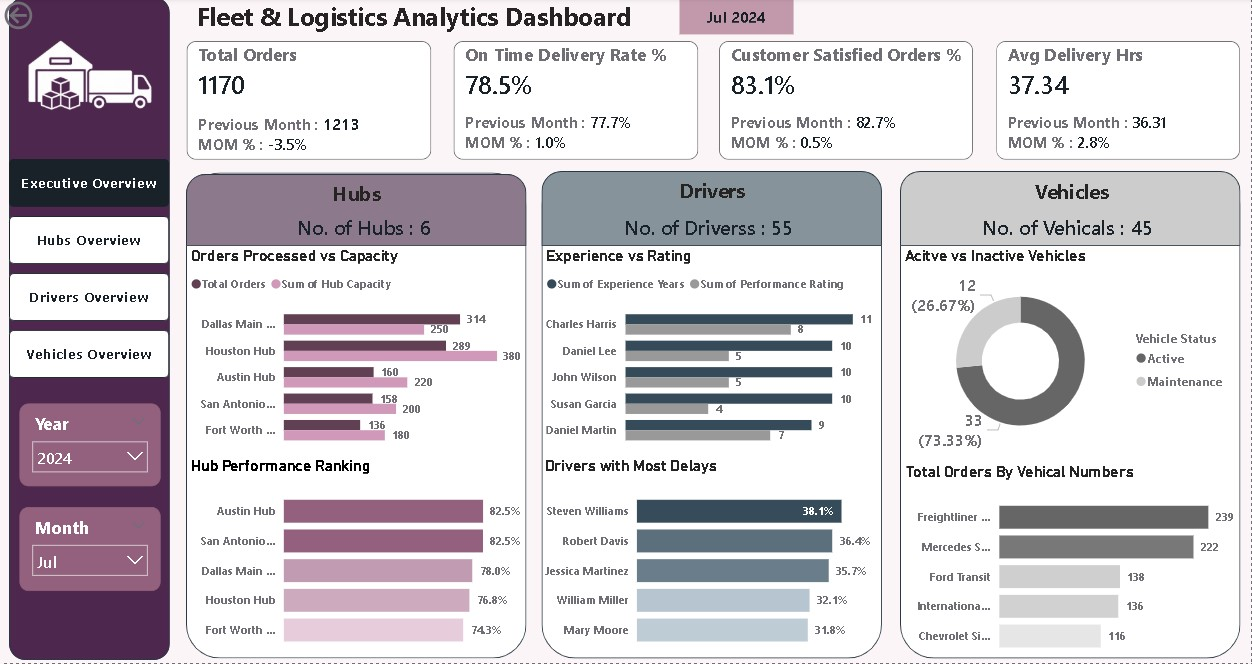

This screenshot's page, from the dashboard's own definition file:
{"tool":"powerbi","page":{"name":"Executive Overview","canvas":[1360,725],"ordinal":0},"visuals":[{"type":"cardVisual","fields":{"Data":["Date Table.Year Month Titile"]},"box":[738.6,0,123.9,40.8],"z":0},{"type":"cardVisual","fields":{"Data":["Orders.Total Orders"]},"box":[190.8,35.9,290.2,153.3],"z":0,"group":"g4"},{"type":"shape","box":[9.7,0,174.9,720.6],"z":1000},{"type":"cardVisual","fields":{"Data":["Orders.Avg Delivery Time (Hrs)"]},"box":[1069.6,35.9,290.2,153.3],"z":1000,"group":"g4"},{"type":"cardVisual","fields":{"Data":["Orders.On Time Delivery Rate %"]},"box":[480.4,35.9,290.2,153.3],"z":2000,"group":"g4"},{"type":"group","id":"g1","title":"Group 2","box":[202.2,190.8,370.1,528.3],"z":2000},{"type":"textbox","box":[213.6,3.3,502.2,37.5],"z":3000},{"type":"cardVisual","fields":{"Data":["Orders.Customer Satisfied Orders %"]},"box":[769.6,35.9,300,153.3],"z":3000,"group":"g4"},{"type":"group","id":"g2","title":"Group 3","box":[588.6,189.1,370.1,529.9],"z":4000},{"type":"group","id":"g3","title":"Group 4","box":[978.3,189.1,370.1,529.9],"z":5000},{"type":"shape","box":[202.2,190.8,370.1,528.3],"z":5000,"group":"g1"},{"type":"shape","box":[588.6,189.1,370.1,529.9],"z":6000,"group":"g2"},{"type":"textbox","box":[298.4,192.4,177.7,45.7],"z":6000},{"type":"textbox","box":[684.8,189.1,177.7,45.7],"z":7000},{"type":"shape","box":[978.3,189.1,370.1,529.9],"z":7000,"group":"g3"},{"type":"textbox","box":[1076.1,190.8,177.7,45.7],"z":8000},{"type":"shape","box":[202.2,192.4,370.1,78.3],"z":8000,"group":"g1"},{"type":"shape","box":[588.6,189.1,370.1,81.5],"z":9000,"group":"g2"},{"type":"cardVisual","fields":{"Data":["Hubs.Hub Count"]},"box":[298.4,226.6,195.7,44],"z":9000},{"type":"shape","box":[978.3,189.1,370.1,81.5],"z":10000,"group":"g3"},{"type":"cardVisual","fields":{"Data":["Drivers.Drivers Count"]},"box":[653.8,226.6,242.9,44],"z":10000},{"type":"cardVisual","fields":{"Data":["Vehicles.Vehicals Count"]},"box":[1043.5,226.6,244.6,44],"z":11000},{"type":"group","id":"g4","title":"Group 1","box":[190.8,35.9,1169,153.3],"z":12000},{"type":"clusteredBarChart","title":"Orders Processed vs Capacity","fields":{"Y":["Orders.Total Orders","Sum(Hubs.Hub Capacity)"],"Category":["Hubs.HubName"]},"box":[202.2,270.7,370.1,228.3],"z":13000},{"type":"clusteredBarChart","title":"Hub Performance Ranking","fields":{"Category":["Hubs.HubName"],"Y":["Orders.On Time Delivery Rate %"]},"box":[202.2,498.9,370.1,220.1],"z":14000},{"type":"clusteredBarChart","title":"Drivers with Most Delays","fields":{"Category":["Drivers.DriverName"],"Y":["Orders.Delay Orders %"]},"box":[587,498.9,370.1,220.1],"z":15000},{"type":"clusteredBarChart","title":"Experience vs Rating","fields":{"Category":["Drivers.DriverName"],"Y":["Sum(Drivers.Experience Years)","Sum(Drivers.Performance Rating)"]},"box":[588.6,270.7,370.1,228.3],"z":16000},{"type":"donutChart","title":"Acitve vs Inactive Vehicles","fields":{"Category":["Vehicles.Vehicle Status"],"Y":["CountNonNull(Vehicles.Vehicle ID)"]},"box":[978.3,270.7,370.1,228.3],"z":17000},{"type":"clusteredBarChart","title":"Total Orders By Vehical Numbers","fields":{"Category":["Vehicles.Vehicle Model"],"Y":["Orders.Total Orders"]},"box":[979.9,505.4,370.1,220.1],"z":18000},{"type":"actionButton","box":[0,0,100,40],"z":19000},{"type":"pageNavigator","box":[9.8,176.1,174.5,239.7],"z":20000},{"type":"slicer","fields":{"Values":["Date Table.Year"]},"box":[21.2,441.2,153.3,89.7],"z":21000},{"type":"slicer","fields":{"Values":["Date Table.Month"]},"box":[21.2,553.7,153.3,91.3],"z":22000},{"type":"image","box":[9.8,1.6,174.5,174.5],"z":23000}]}

Visuals, with their boxes in screenshot pixels (x1, y1, x2, y2), scaled from the page's 1360x725 canvas onto the 1252x664 screenshot:
cardVisual - Date Table.Year Month Titile: (680,0,794,37)
cardVisual - Orders.Total Orders: (176,33,443,173)
shape: (9,0,170,660)
cardVisual - Orders.Avg Delivery Time (Hrs): (985,33,1251,173)
cardVisual - Orders.On Time Delivery Rate %: (442,33,709,173)
"Group 2" group: (186,175,527,659)
textbox: (197,3,659,37)
cardVisual - Orders.Customer Satisfied Orders %: (708,33,985,173)
"Group 3" group: (542,173,883,659)
"Group 4" group: (901,173,1241,659)
shape: (186,175,527,659)
shape: (542,173,883,659)
textbox: (275,176,438,218)
textbox: (630,173,794,215)
shape: (901,173,1241,659)
textbox: (991,175,1154,217)
shape: (186,176,527,248)
shape: (542,173,883,248)
cardVisual - Hubs.Hub Count: (275,208,455,248)
shape: (901,173,1241,248)
cardVisual - Drivers.Drivers Count: (602,208,825,248)
cardVisual - Vehicles.Vehicals Count: (961,208,1186,248)
"Group 1" group: (176,33,1251,173)
"Orders Processed vs Capacity" clusteredBarChart: (186,248,527,457)
"Hub Performance Ranking" clusteredBarChart: (186,457,527,659)
"Drivers with Most Delays" clusteredBarChart: (540,457,881,659)
"Experience vs Rating" clusteredBarChart: (542,248,883,457)
"Acitve vs Inactive Vehicles" donutChart: (901,248,1241,457)
"Total Orders By Vehical Numbers" clusteredBarChart: (902,463,1243,663)
actionButton: (0,0,92,37)
pageNavigator: (9,161,170,381)
slicer - Date Table.Year: (20,404,161,486)
slicer - Date Table.Month: (20,507,161,591)
image: (9,1,170,161)
